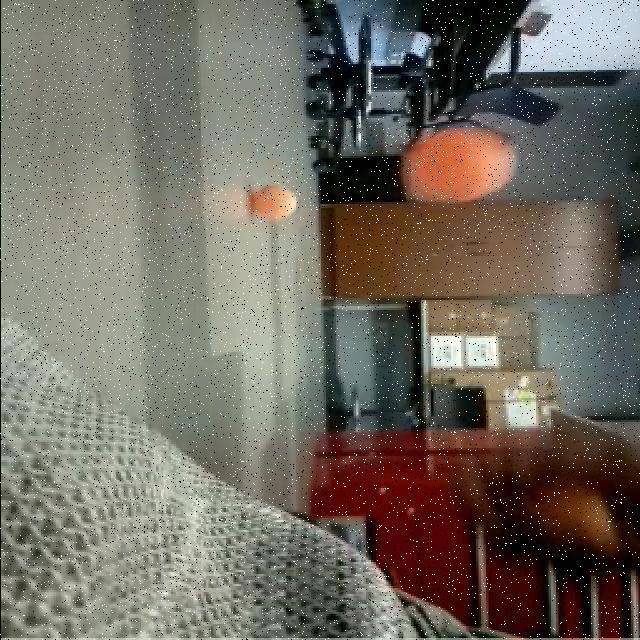ping-pong-ball: (390, 125, 524, 214), (248, 180, 301, 225)
